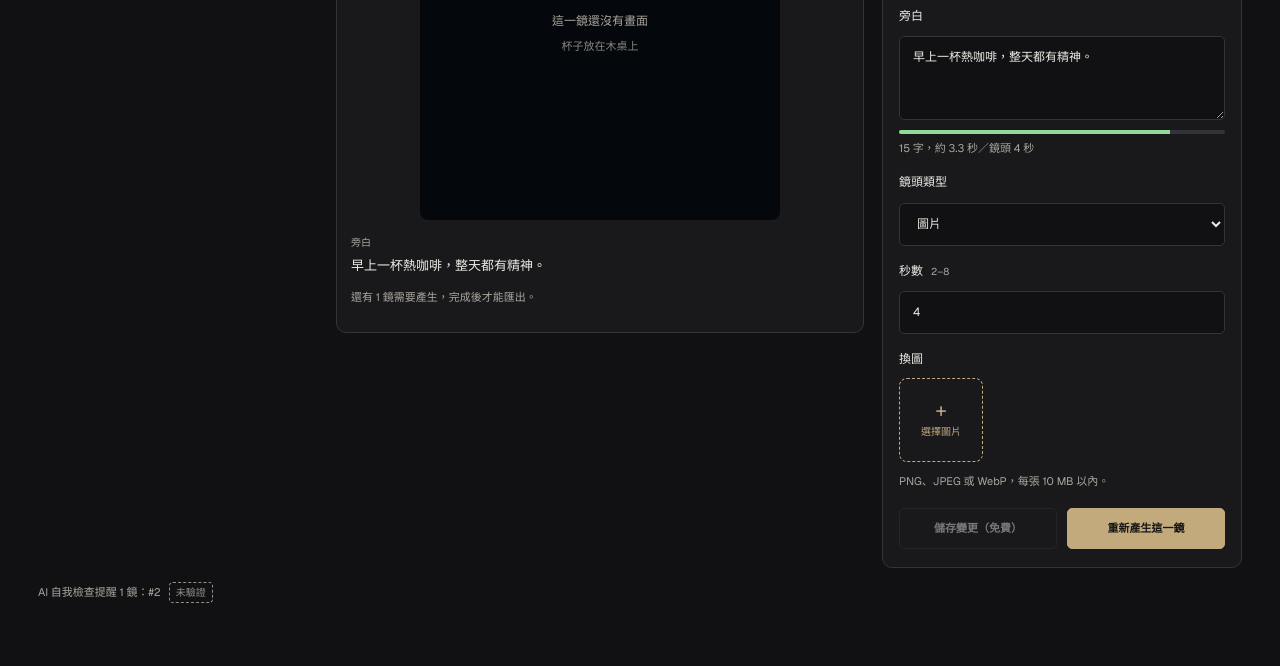
Test: editor actions › submits once on a double click and keeps the actions disabled until the op shows up
This screenshot has width=1280, height=666.
(page scrolled)
Click the button "重新產生這一鏡" at (1146, 529), box top-left (1067, 508), bottom-right (1225, 549)
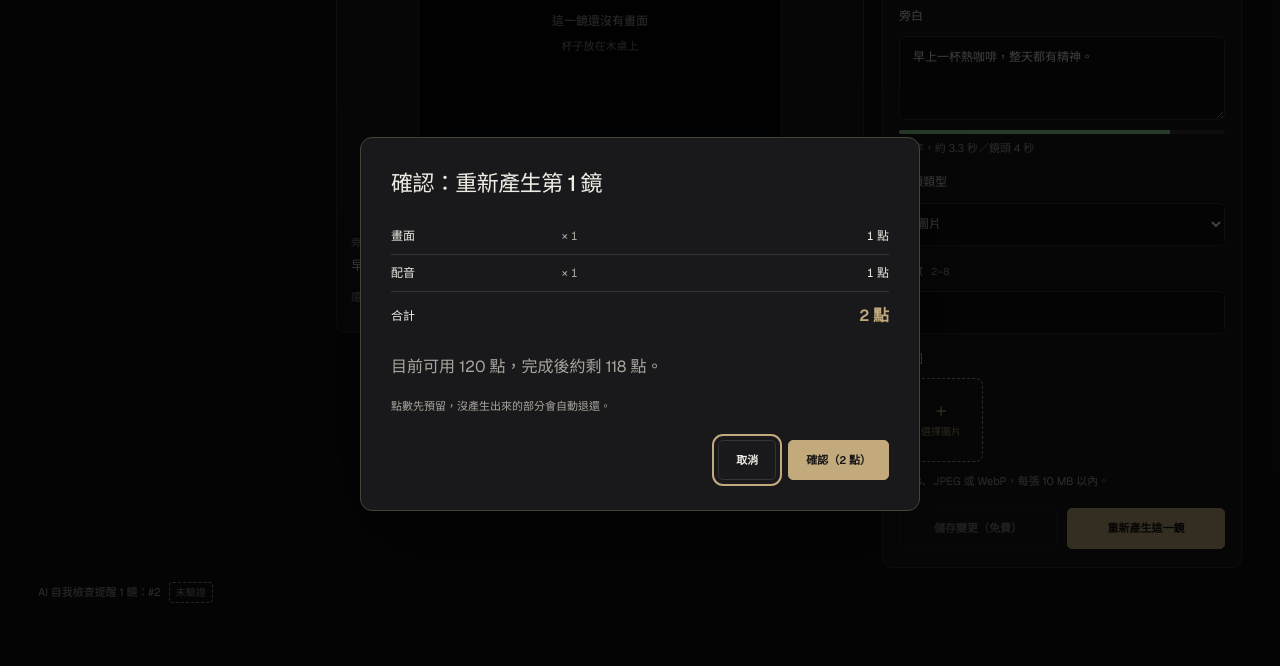
Click the button "確認（2 點）" at (839, 460), box top-left (788, 440), bottom-right (889, 480)
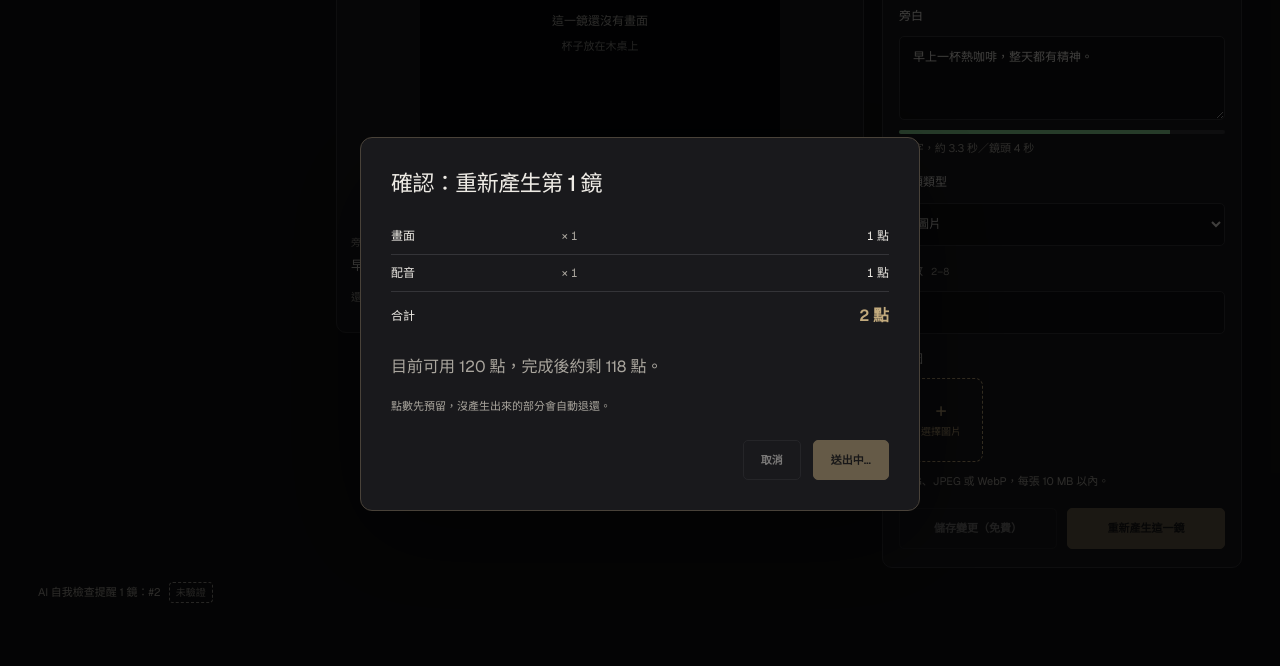
Click the button named "確認（2 點）" at (851, 460), box top-left (813, 440), bottom-right (889, 480)
(page scrolled)
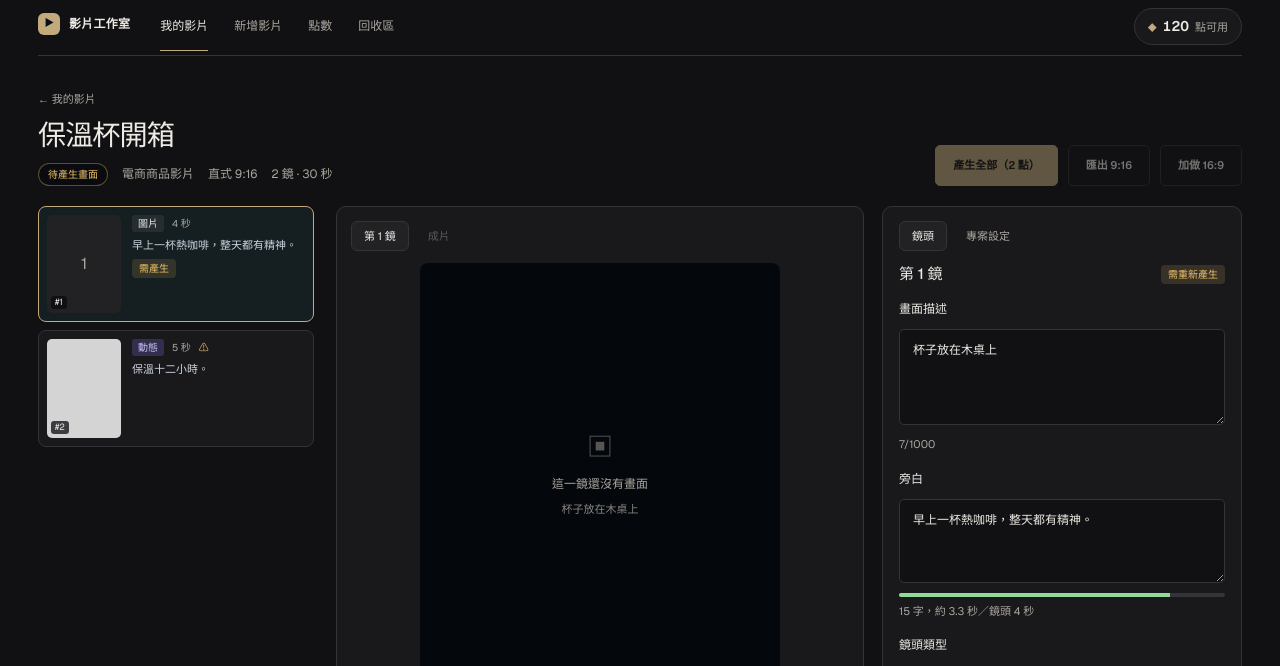
Check: the button "產生全部（2 點）" is disabled, box top-left (935, 145), bottom-right (1058, 186)
Check: the dialog is gone
